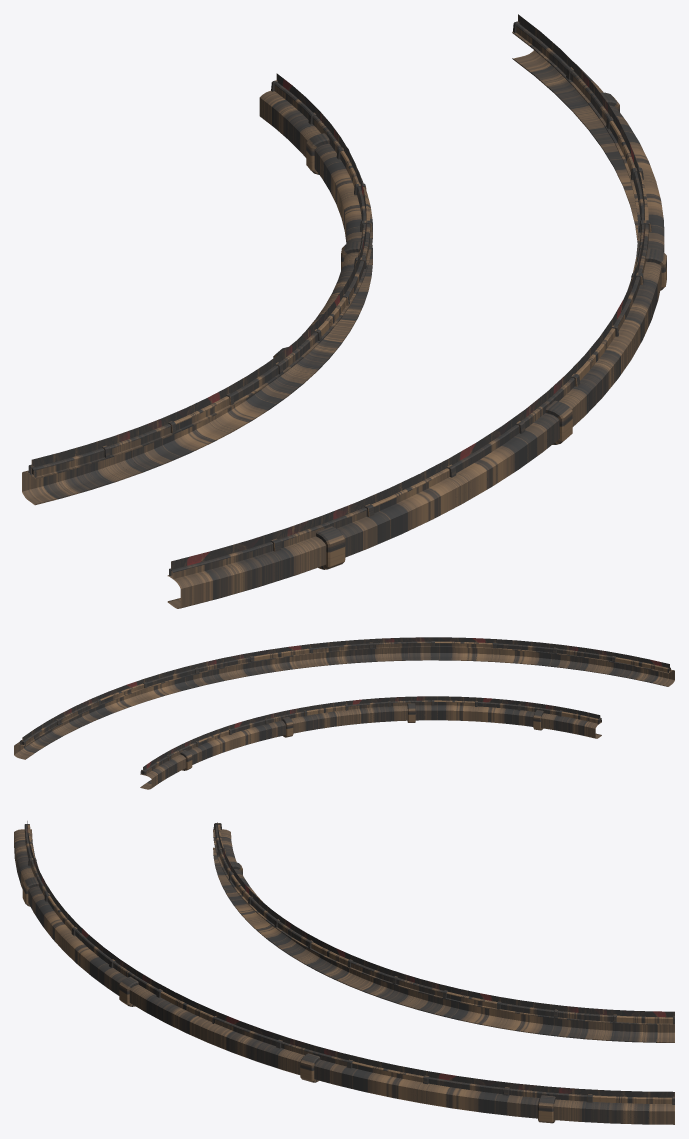
The model's file is Mur_V_90x1.fbx.
The picture shows the model from 3 angles, top to bottom: view 1: azimuth 30°, elevation 25°; view 2: azimuth 150°, elevation 25°; view 3: azimuth 270°, elevation 25°; orthographic projection. The views are drawn at different scales.
Parts seen in each view (by area): view 1: polySurface157; view 2: polySurface157; view 3: polySurface157.
Part boxes in pixels (x1,y1,x2,y2): polySurface157: (22, 14, 666, 608); polySurface157: (14, 637, 674, 789); polySurface157: (14, 821, 674, 1124).
Bounding box in the file's own units: 45.7 × 2.5 × 45.7.
